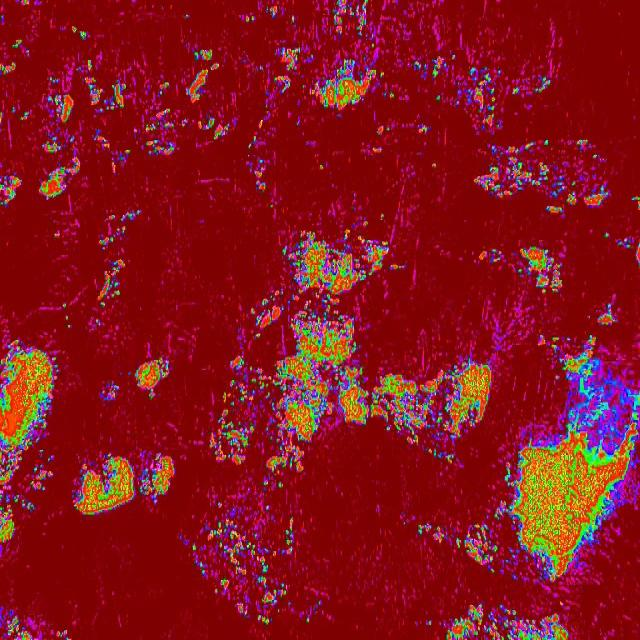fire: (210, 229, 488, 485), (506, 332, 640, 579), (177, 500, 298, 626), (0, 338, 61, 546), (472, 138, 614, 210), (36, 74, 80, 202), (442, 602, 571, 640), (70, 454, 136, 515), (314, 60, 378, 119), (454, 58, 502, 136), (140, 108, 190, 161), (517, 245, 564, 294), (138, 450, 176, 501), (95, 209, 141, 251), (463, 522, 499, 574), (91, 130, 130, 178), (134, 354, 170, 397), (272, 46, 302, 96), (330, 0, 368, 39), (98, 260, 130, 306), (86, 79, 130, 110), (185, 64, 219, 102), (1, 614, 47, 640), (0, 169, 24, 207), (198, 115, 230, 141), (416, 522, 450, 546), (617, 234, 640, 268), (248, 117, 268, 152), (248, 157, 266, 192), (96, 382, 120, 406), (596, 300, 618, 326), (430, 54, 450, 80), (534, 72, 552, 98), (303, 600, 322, 624), (413, 56, 428, 82), (60, 306, 74, 333), (190, 47, 216, 61), (489, 247, 505, 267), (12, 36, 28, 56), (263, 4, 284, 18), (157, 78, 171, 98), (71, 28, 90, 42), (375, 122, 391, 136), (368, 30, 378, 51), (381, 89, 397, 102), (242, 14, 258, 27), (417, 121, 429, 137), (495, 500, 504, 521), (629, 194, 640, 211), (55, 629, 71, 640), (84, 56, 98, 68), (2, 63, 15, 75), (18, 110, 32, 121), (453, 535, 462, 551), (294, 119, 306, 130), (359, 218, 372, 228), (603, 229, 612, 243), (378, 69, 388, 80), (511, 86, 523, 95), (378, 212, 387, 224), (434, 94, 444, 104), (291, 13, 298, 26), (8, 105, 17, 115), (430, 160, 439, 170), (94, 317, 102, 328), (426, 618, 434, 628), (18, 0, 34, 5), (53, 230, 61, 240), (0, 14, 6, 25), (318, 164, 327, 171), (268, 202, 275, 209), (183, 12, 190, 18)
